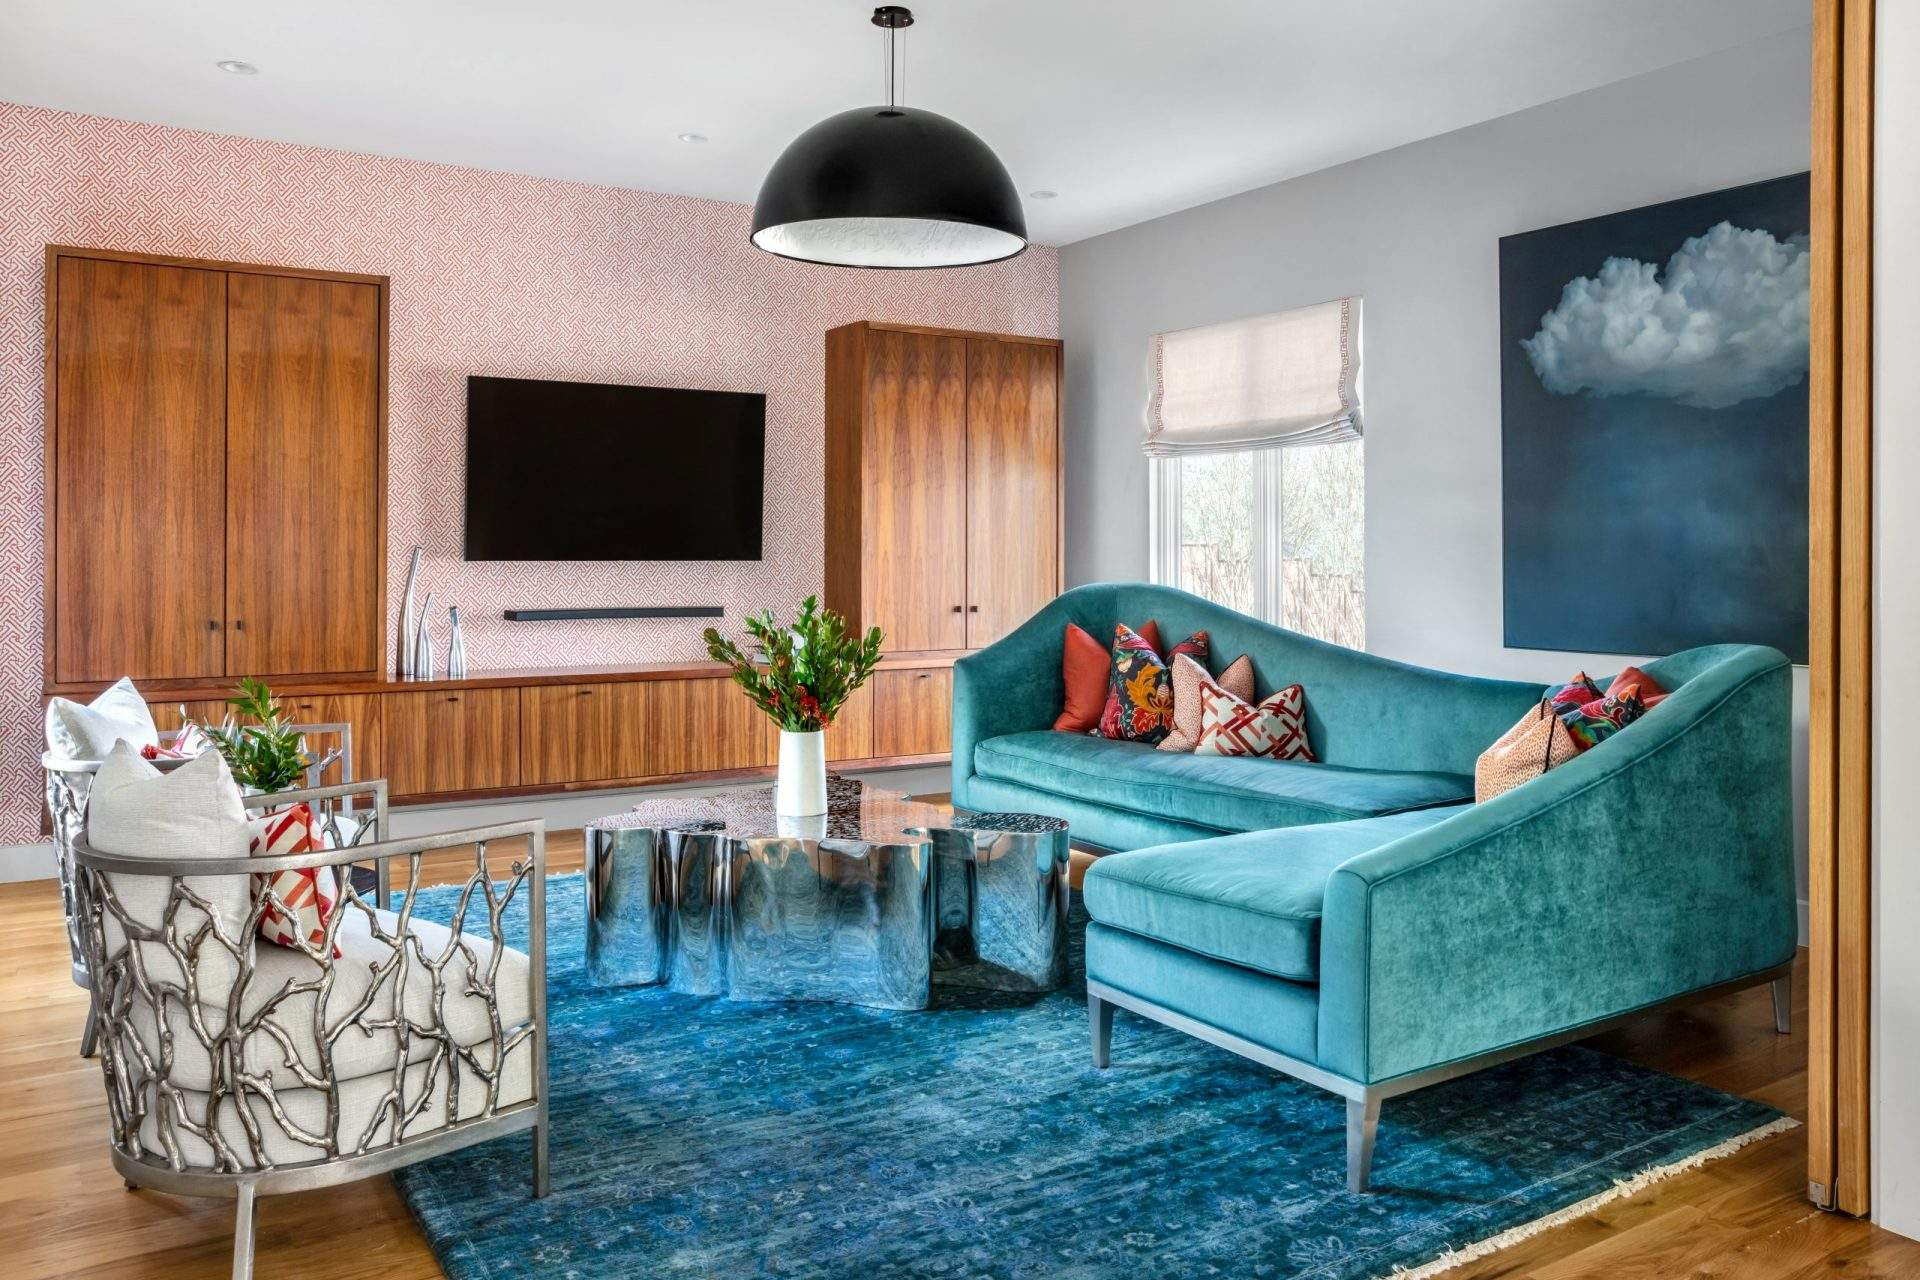biru: (1083, 644, 1790, 1049)
hitam: (463, 371, 766, 561), (749, 111, 1034, 264)
putih: (96, 747, 247, 1001), (774, 729, 829, 824)
